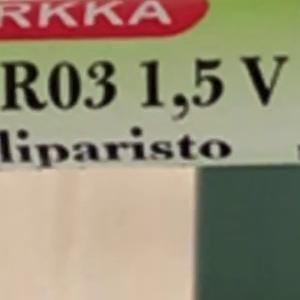1,5V: (74, 46, 298, 148)
